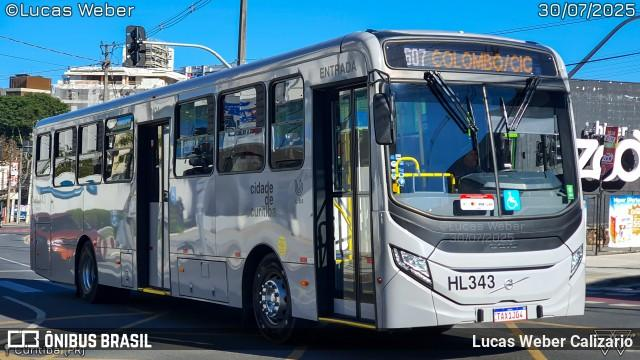COLOMBO CIC: (429, 46, 536, 74)
